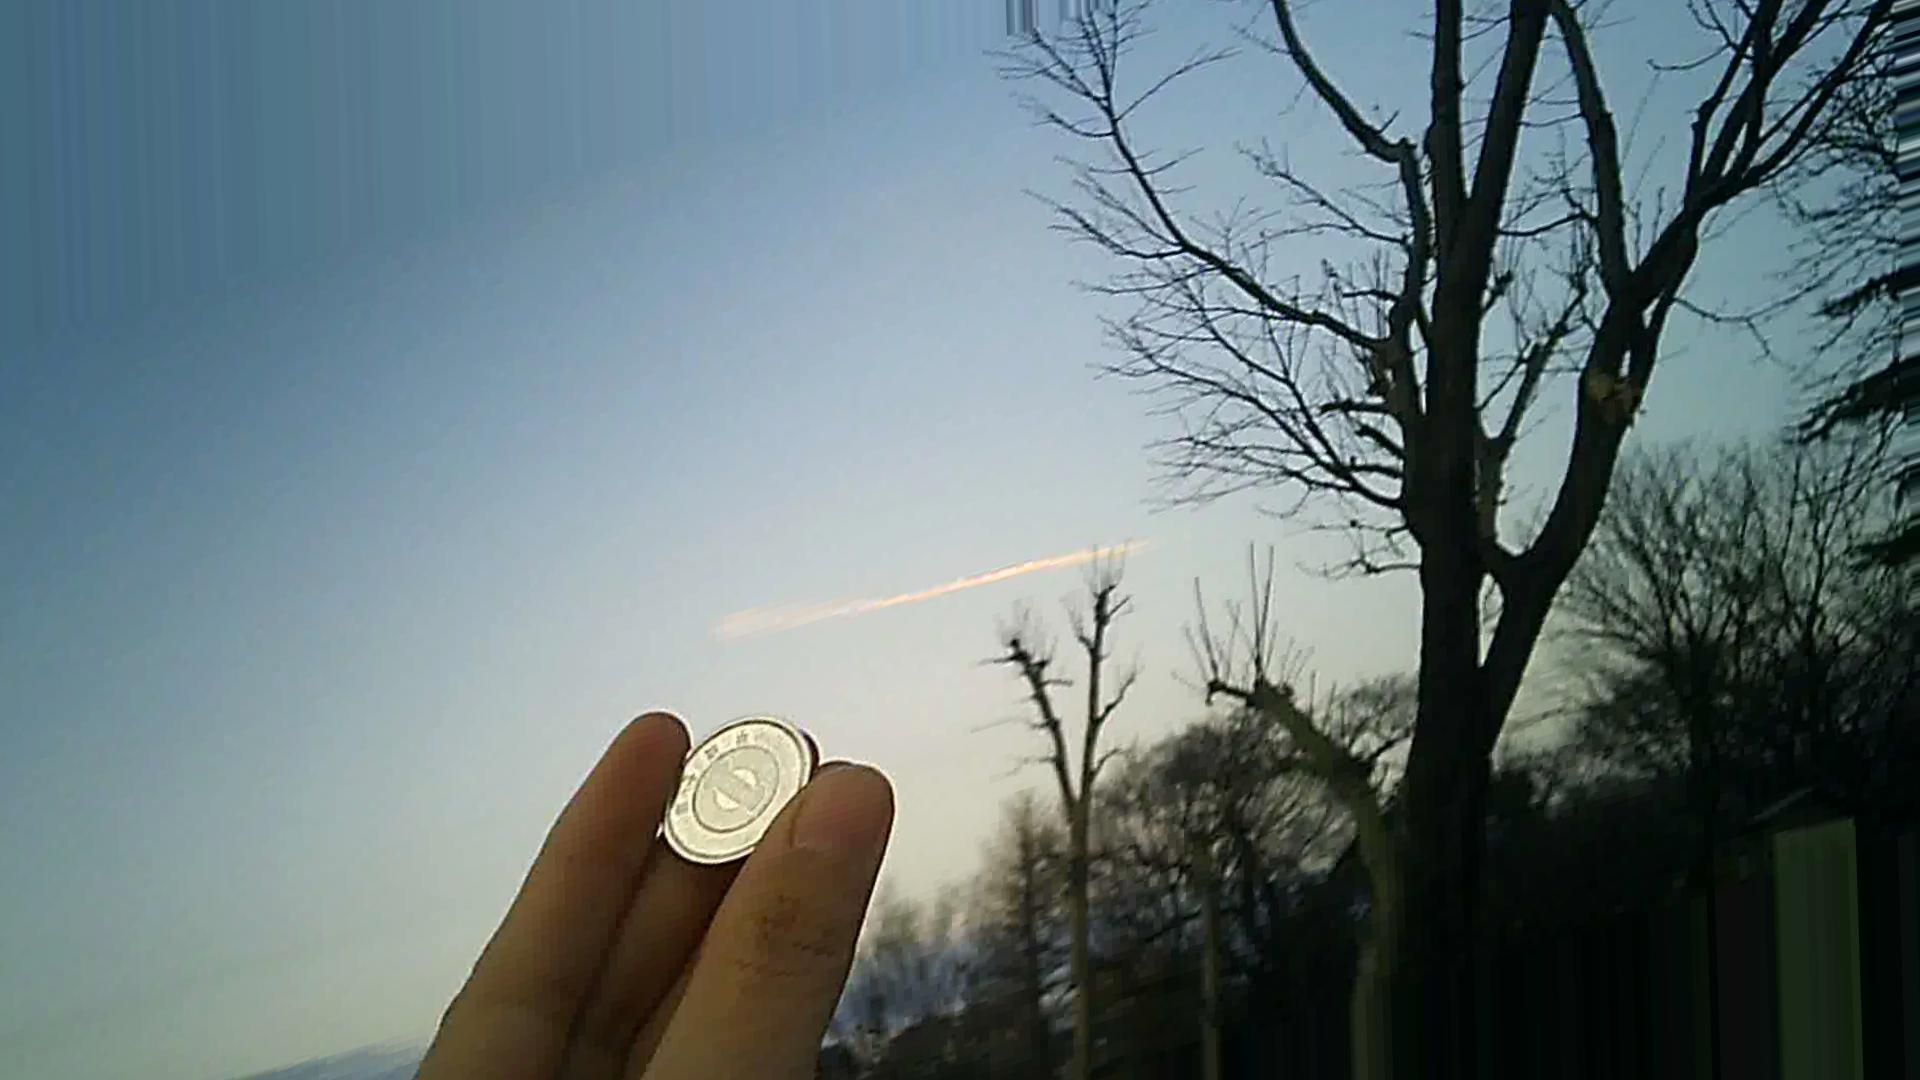1 Yen: (651, 709, 823, 869)
